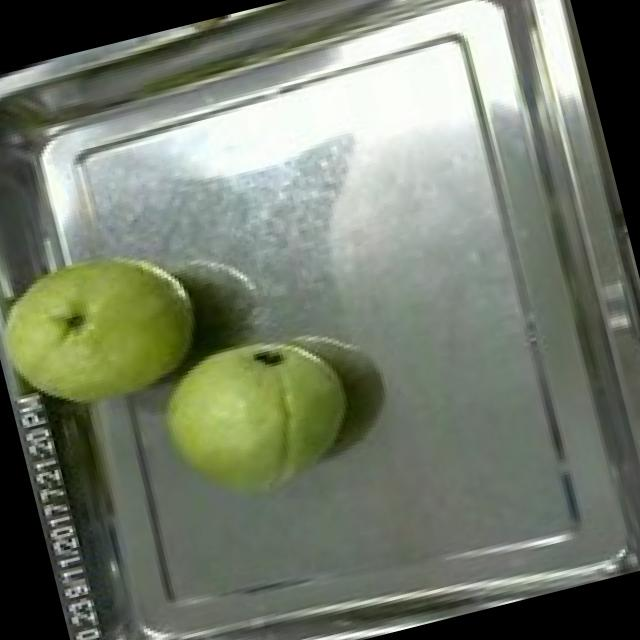Fruit: (134, 307, 376, 527), (0, 222, 223, 434)
